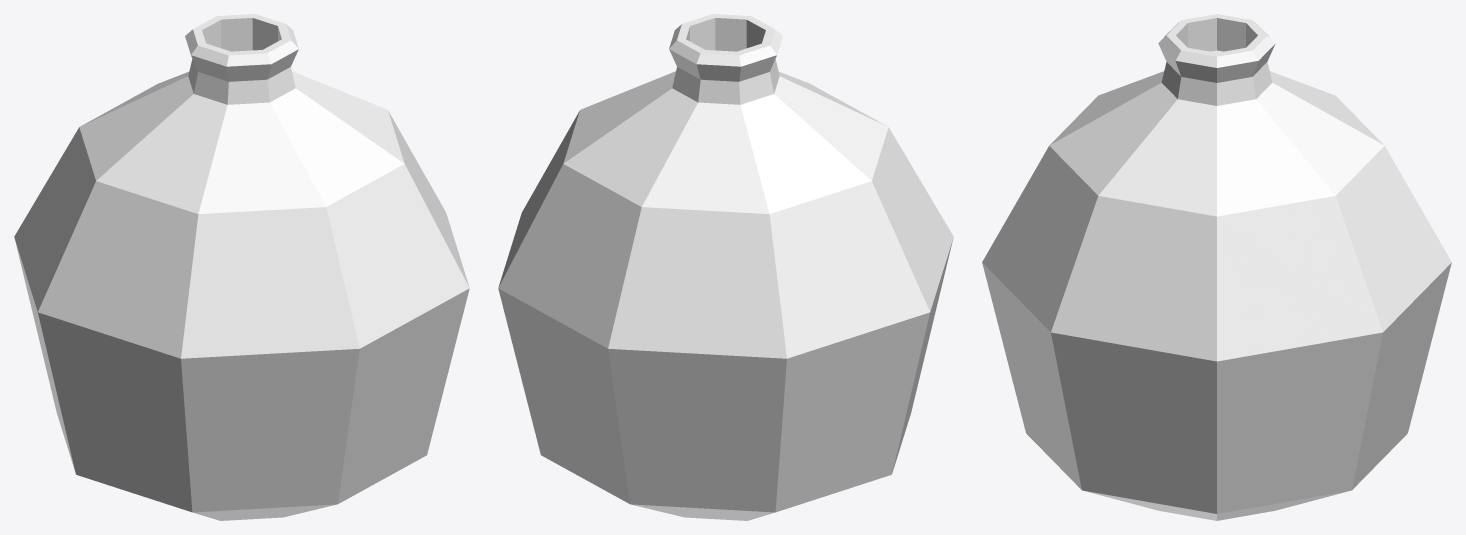
Rendered from PotteryJar_01.fbx.
The picture shows the model from 3 angles, left to right: view 1: azimuth 30°, elevation 25°; view 2: azimuth 150°, elevation 25°; view 3: azimuth 270°, elevation 25°; orthographic projection.
Visible parts, largest first — view 1: PotteryJar_01; view 2: PotteryJar_01; view 3: PotteryJar_01.
Part boxes in pixels (x1,y1,x2,y2): PotteryJar_01: [14, 14, 469, 520]; PotteryJar_01: [498, 14, 953, 520]; PotteryJar_01: [982, 14, 1451, 520].
Size of the model in its own units: 149 by 158 by 149.
